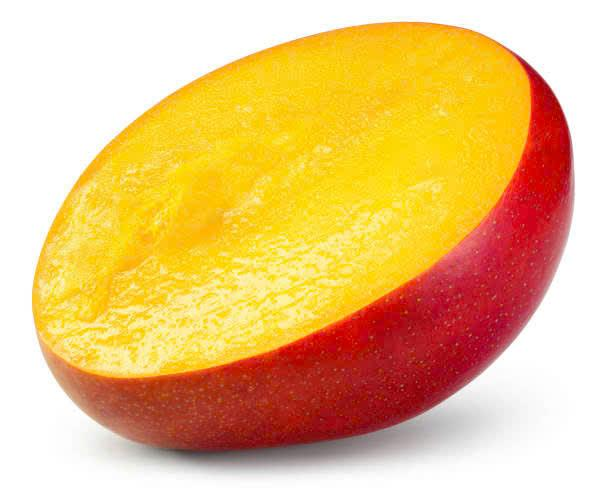mango: (22, 16, 578, 456)
